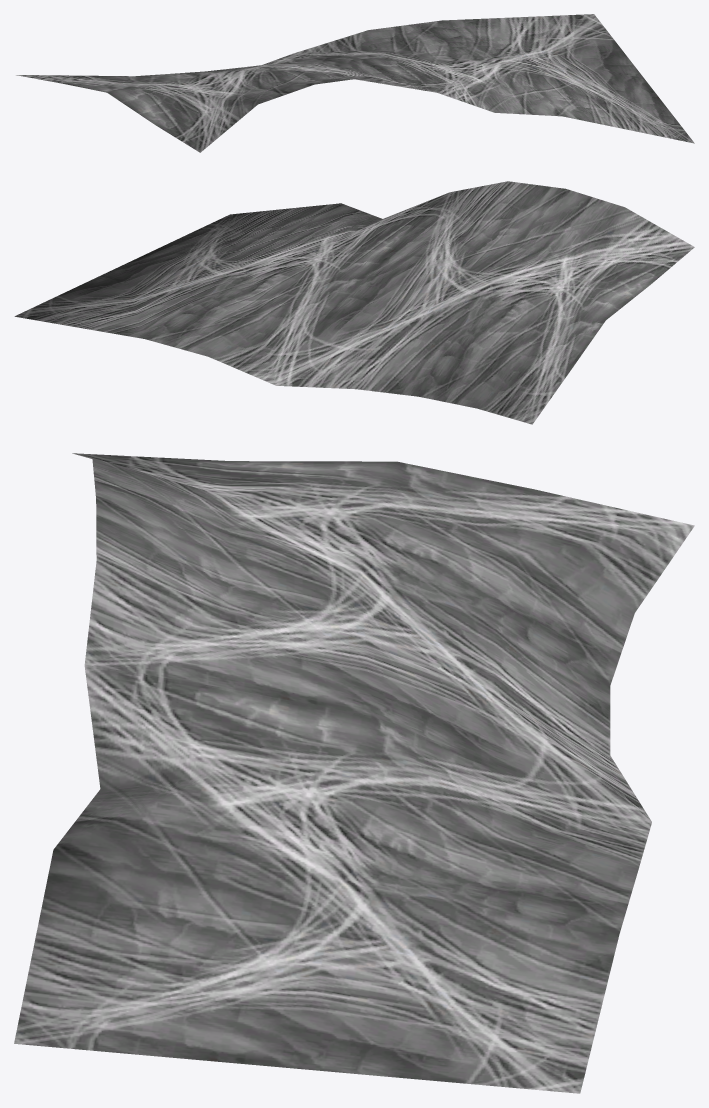
File: SWORDLIGHT20_PS-AREA01_40.fbx
3 views of the same model, one above another, from view 1: azimuth 30°, elevation 25°; view 2: azimuth 150°, elevation 25°; view 3: azimuth 270°, elevation 25° (orthographic). The views are drawn at different scales.
Parts seen in each view (by area): view 1: SWORDLIGHT20_PS-AREA01_40; view 2: SWORDLIGHT20_PS-AREA01_40; view 3: SWORDLIGHT20_PS-AREA01_40.
Part boxes in pixels (x1,y1,x2,y2): SWORDLIGHT20_PS-AREA01_40: [16, 14, 694, 152]; SWORDLIGHT20_PS-AREA01_40: [14, 181, 694, 424]; SWORDLIGHT20_PS-AREA01_40: [14, 453, 694, 1093].
Bounding box in the file's own units: 120219 × 27137 × 72158.
1 material, 1 textured.
